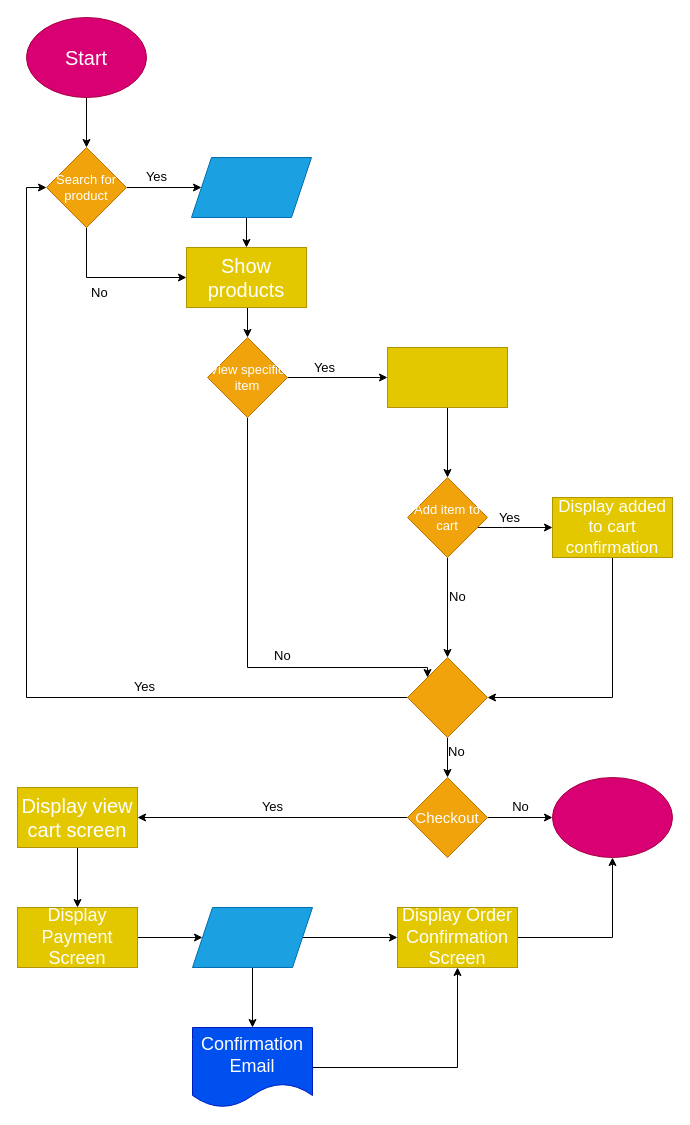
This 690x1125 diagram has some shape labels left out. The shapes that lost their labels are listed below. From the top down, each one's centre as x and y in pixels, then its label:
At point (251, 187): "Search input".
At point (447, 377): "Show Product Webpage".
At point (447, 697): "Continue Shopping".
At point (612, 817): "End".
At point (252, 937): "Payment Information".
